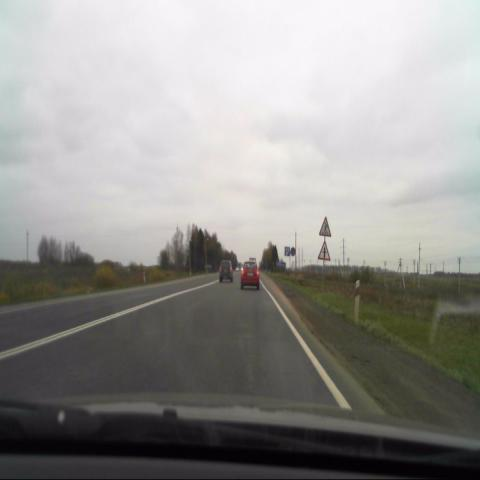1_22: (317, 214, 333, 239)
2_3: (318, 239, 332, 262)
